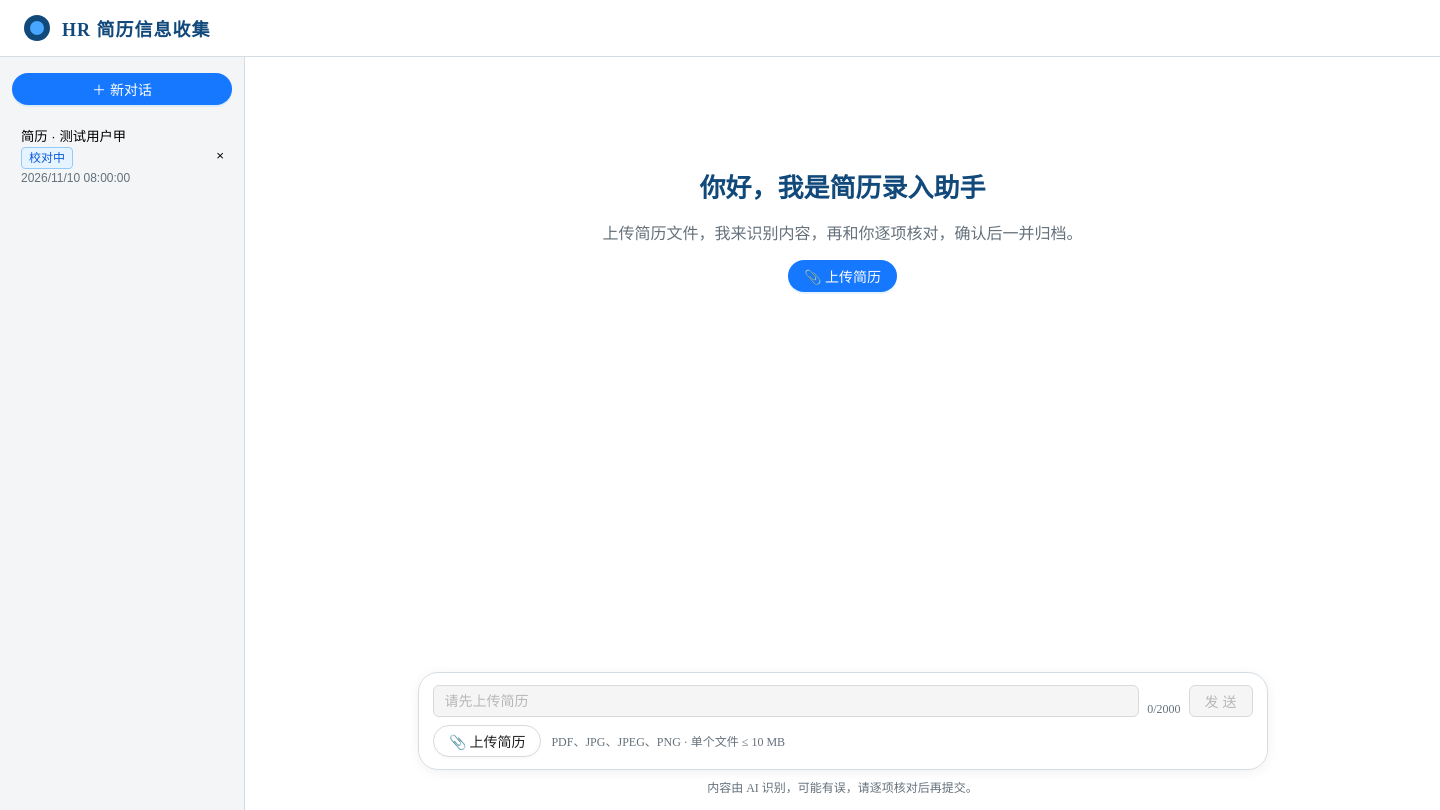
Test case: F-03: "已保存" only after a confirmed save (HIGH_RISK, deterministic) › a 2xx answer of the wrong shape, re-read still reviewing: no success anywhere, the session stays in review and can be retried
The width and height of the screenshot is (1440, 810).
Later steps or results of the test are not shown.
Click the button "简历 · 测试用户甲 校对中 2026/11/10 08:00:00" at (108, 156), box [12,117,204,194]
(page scrolled)
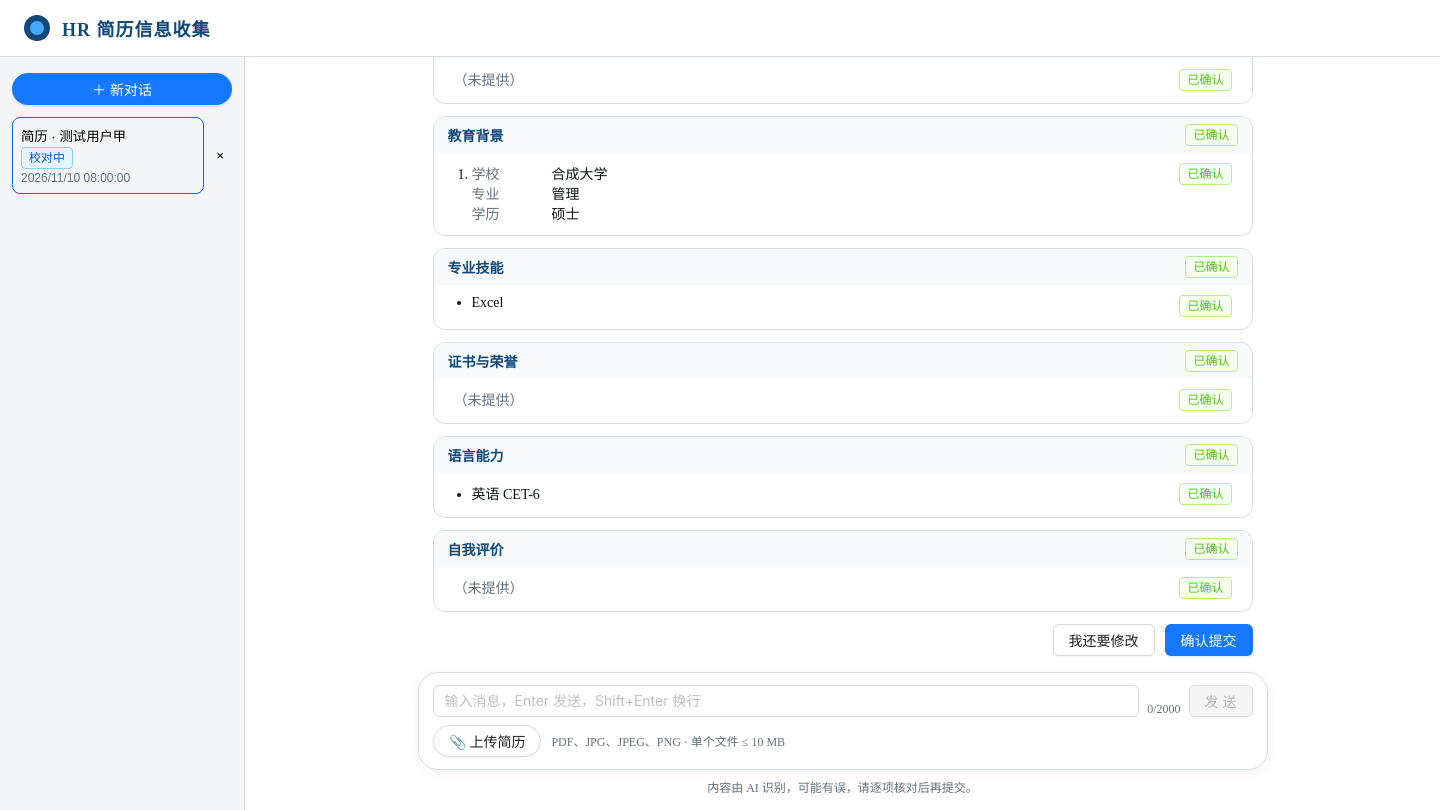
Click the button "确认提交" at (1208, 640), box [1164,624,1252,656]
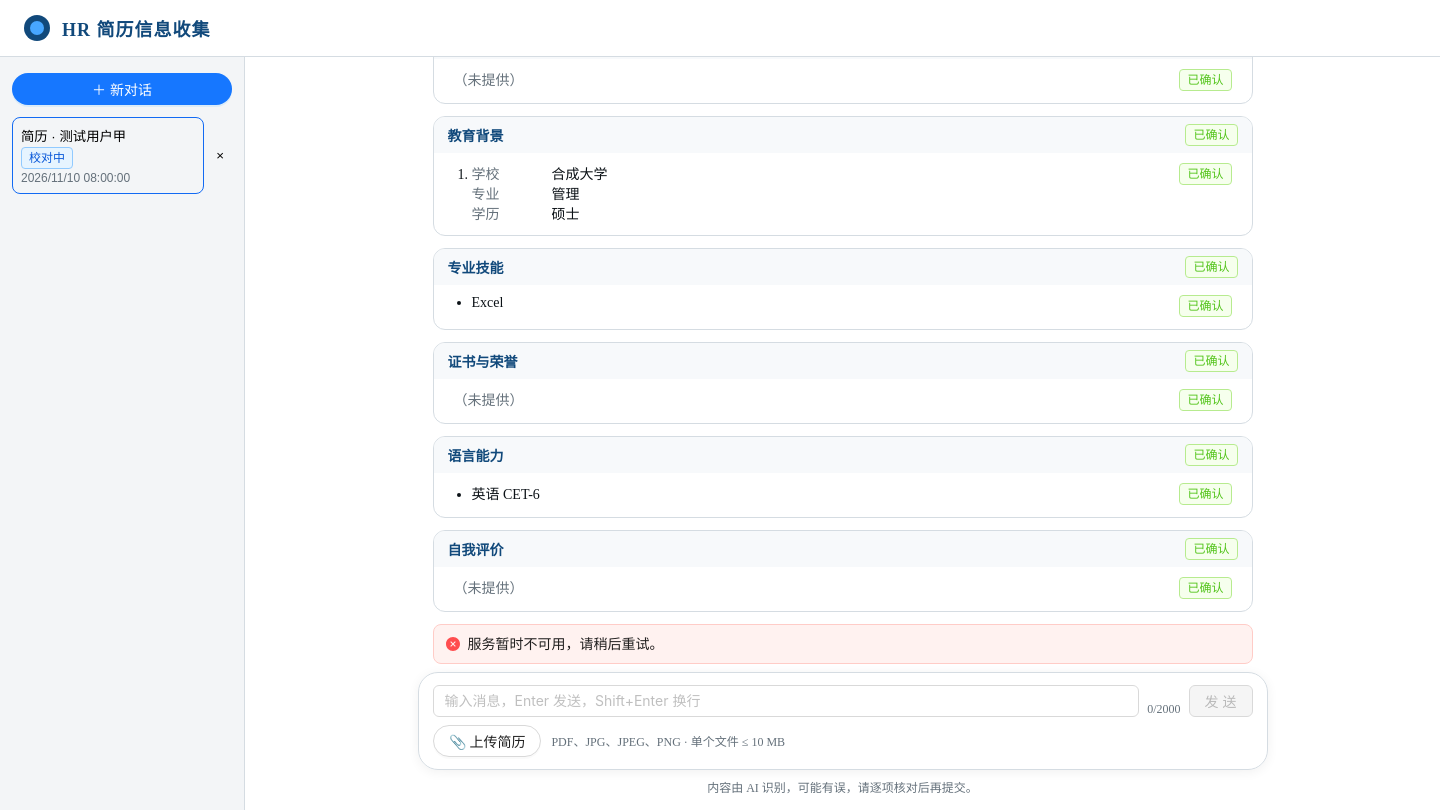
Result: the message "服务暂时不可用，请稍后重试。" is shown at [432,624,1252,664]
